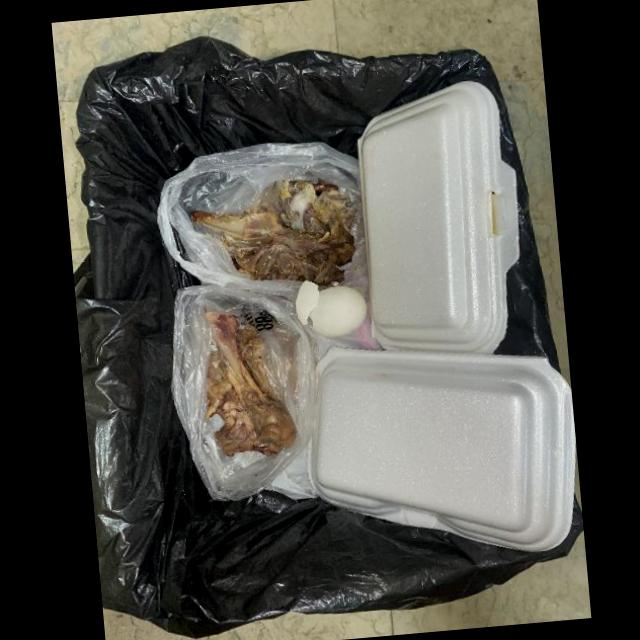thuc_an_thua: (190, 178, 357, 286), (205, 311, 296, 457)
tui_ni_long: (171, 285, 318, 502), (156, 142, 368, 290)
vo_trung: (295, 280, 367, 337)
xop: (311, 347, 575, 553), (356, 82, 519, 357)
